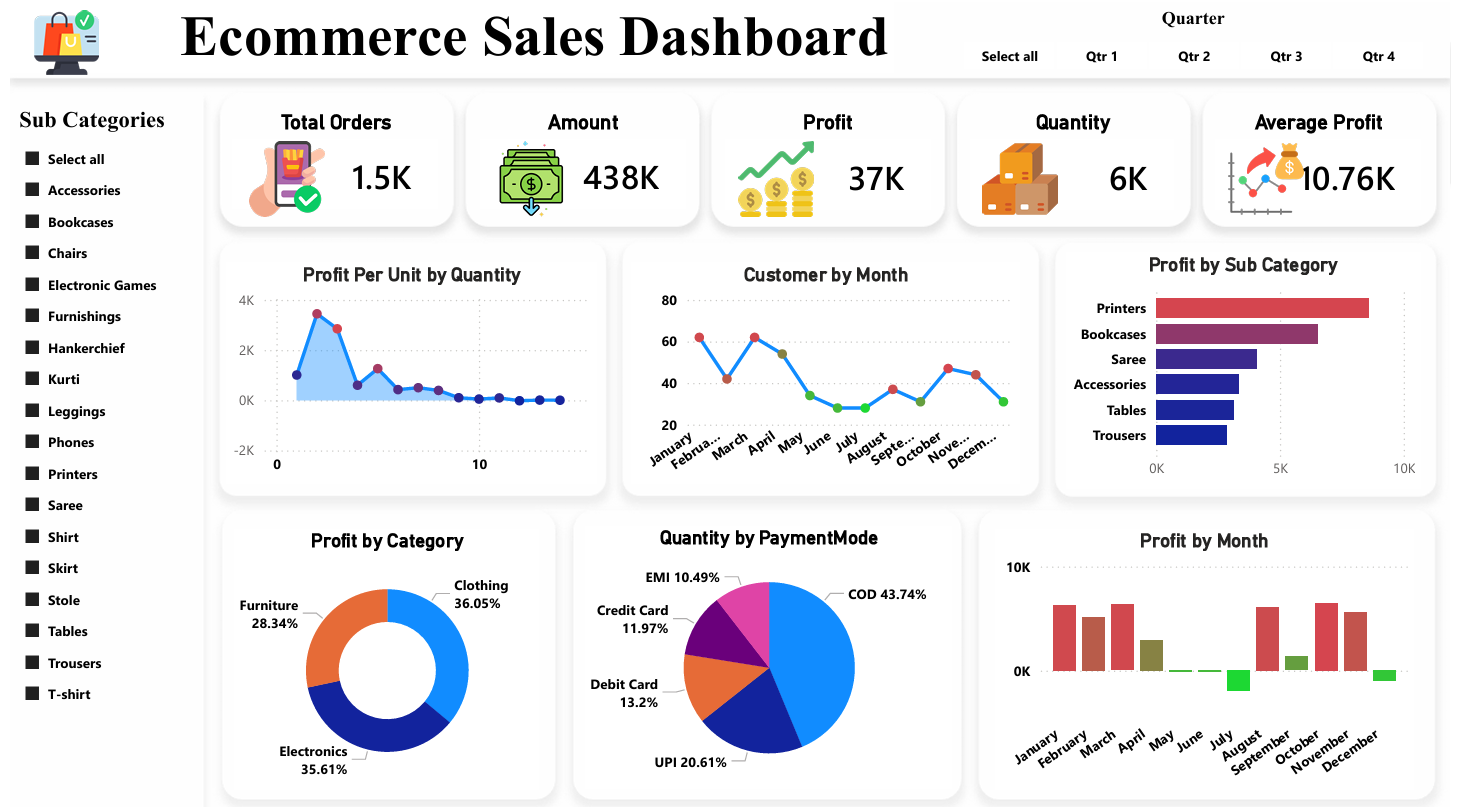

The dashboard page shown, as its layout file describes it:
{"tool":"powerbi","page":{"name":"Page 1","canvas":[1280,720],"ordinal":0},"visuals":[{"type":"cardVisual","title":"Total Orders","fields":{"Data":["CountNonNull(Details.Order ID)"]},"box":[192.3,94.5,193.4,93.4],"z":0},{"type":"columnChart","title":"Profit by Month","fields":{"Y":["Sum(Details.Profit)"],"Category":["Orders.Order Date.Variation.Date Hierarchy.Month"]},"box":[875,468.1,372.2,231.9],"z":1000},{"type":"clusteredBarChart","title":"Profit by Sub Category","fields":{"Y":["Sum(Details.Profit)"],"Category":["Details.Sub-Category"]},"box":[938.3,222.2,314.8,209.9],"z":2000},{"type":"donutChart","title":"Profit by Category","fields":{"Category":["Details.Category"],"Y":["Sum(Details.Profit)"]},"box":[198.8,467.9,271.6,232.1],"z":3000},{"type":"pieChart","title":"Quantity by PaymentMode","fields":{"Y":["Sum(Details.Quantity)"],"Category":["Details.PaymentMode"]},"box":[511.1,465.4,325.9,232.1],"z":4000},{"type":"lineChart","title":"Customer by Month","fields":{"Category":["Orders.Order Date.Variation.Date Hierarchy.Month"],"Y":["CountNonNull(Orders.CustomerName)"]},"box":[552,231,345,197],"z":5000},{"type":"areaChart","title":"Profit Per Unit by Quantity","fields":{"Y":["Sum(Details.profit per unit)"],"Category":["Details.Quantity"]},"box":[192,231,329,197],"z":6000},{"type":"cardVisual","title":"Amount","fields":{"Data":["Sum(Details.Amount)"]},"box":[412.1,94.5,193.4,93.4],"z":7000},{"type":"cardVisual","title":"Profit","fields":{"Data":["Sum(Details.Profit)"]},"box":[629.7,94.5,193.4,94.5],"z":8000},{"type":"cardVisual","title":"Quantity","fields":{"Data":["Sum(Details.Quantity)"]},"box":[848.4,94.5,191.2,94.5],"z":9000},{"type":"cardVisual","title":"Average Profit","fields":{"Data":["Sum(Details.profit per unit)"]},"box":[1065.9,94.5,193.4,94.5],"z":10000},{"type":"textbox","title":"Ecommerce Sales Dashboard","box":[0,0,784.9,63],"z":11000},{"type":"slicer","title":"Sub Categories","fields":{"Values":["Details.Sub-Category"]},"box":[0,86.9,143.6,603.2],"z":12000},{"type":"slicer","title":"Quarter ","fields":{"Values":["Orders.Order Date.Variation.Date Hierarchy.Quarter"]},"box":[822.2,0,458,59],"z":13000},{"type":"image","box":[218.5,127.9,58,59.3],"z":14000},{"type":"image","box":[427.5,126,66.7,63],"z":15000},{"type":"image","box":[645.1,126,61.7,63],"z":16000},{"type":"image","box":[857.7,126,65.4,63],"z":17000},{"type":"image","box":[1074.1,126,61.7,63],"z":18000},{"type":"image","box":[13.7,6.9,70,57.6],"z":19000}]}

Visuals, with their boxes in screenshot pixels (x1, y1, x2, y2), scaled from the page's 1280x720 canvas onto the 1460x807 screenshot:
"Total Orders" cardVisual: bbox=[219, 106, 440, 211]
"Profit by Month" columnChart: bbox=[998, 525, 1423, 785]
"Profit by Sub Category" clusteredBarChart: bbox=[1070, 249, 1429, 484]
"Profit by Category" donutChart: bbox=[227, 524, 537, 785]
"Quantity by PaymentMode" pieChart: bbox=[583, 522, 955, 782]
"Customer by Month" lineChart: bbox=[630, 259, 1023, 480]
"Profit Per Unit by Quantity" areaChart: bbox=[219, 259, 594, 480]
"Amount" cardVisual: bbox=[470, 106, 691, 211]
"Profit" cardVisual: bbox=[718, 106, 939, 212]
"Quantity" cardVisual: bbox=[968, 106, 1186, 212]
"Average Profit" cardVisual: bbox=[1216, 106, 1436, 212]
"Ecommerce Sales Dashboard" textbox: bbox=[0, 0, 895, 71]
"Sub Categories" slicer: bbox=[0, 97, 164, 773]
"Quarter " slicer: bbox=[938, 0, 1459, 66]
image: bbox=[249, 143, 315, 210]
image: bbox=[488, 141, 564, 212]
image: bbox=[736, 141, 806, 212]
image: bbox=[978, 141, 1053, 212]
image: bbox=[1225, 141, 1296, 212]
image: bbox=[16, 8, 95, 72]
